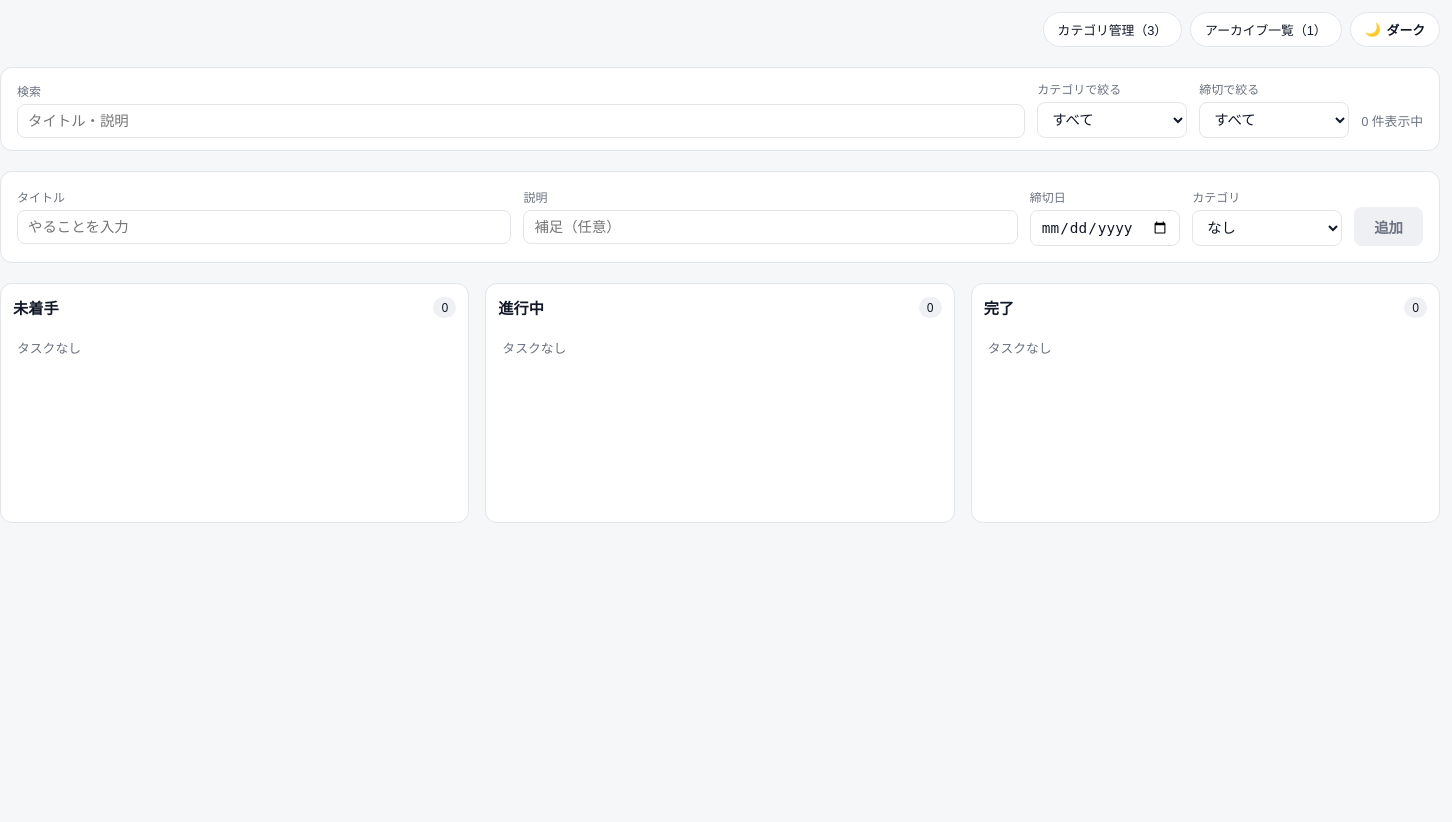
Test: KanbanBoard › アーカイブ一覧から削除できる
Click the button "アーカイブ一覧（1）": (1266, 30) [1190, 12, 1342, 47]
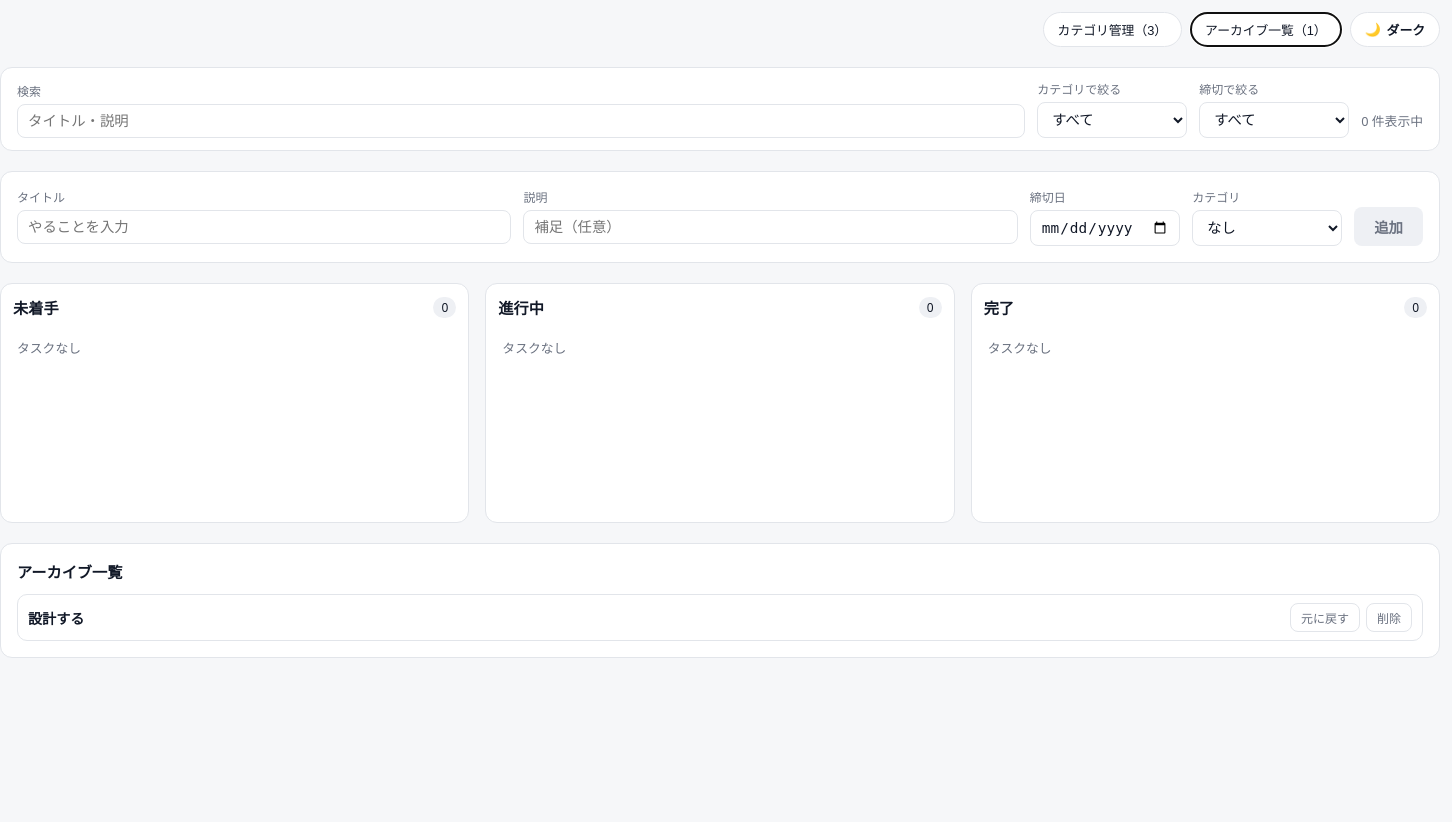
Click the button "削除": (1389, 618) [1366, 603, 1412, 632]
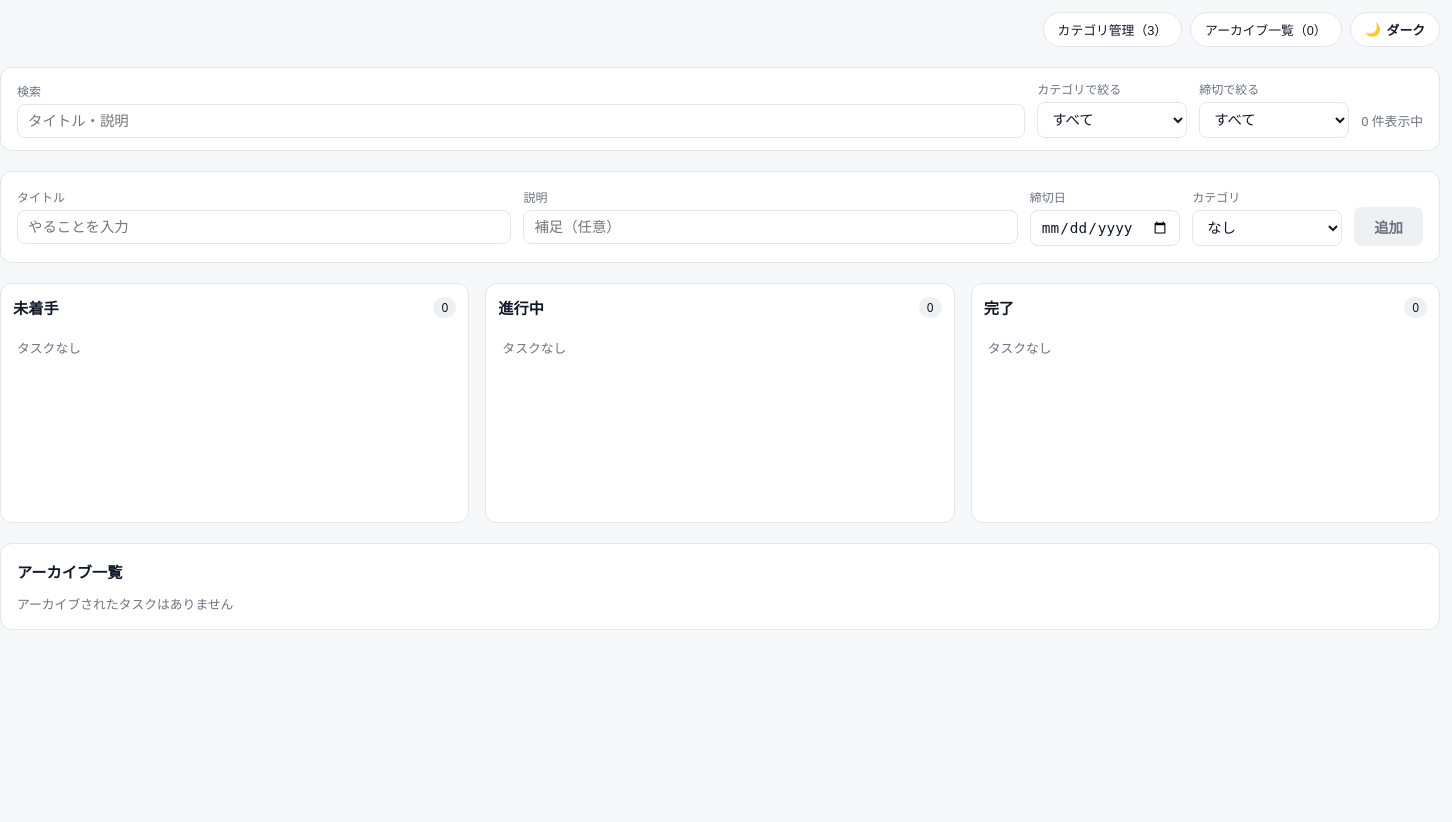
expect the text "アーカイブされたタスクはありません" is shown: met, box [17, 595, 233, 613]
